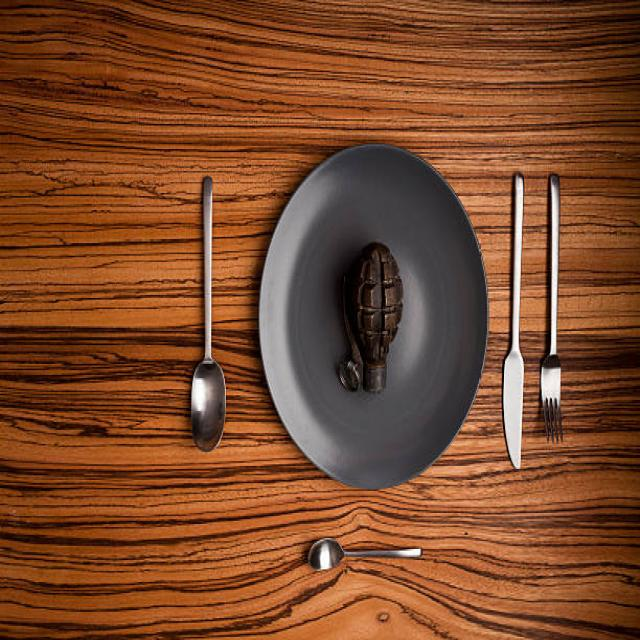grenade: (338, 237, 407, 402)
